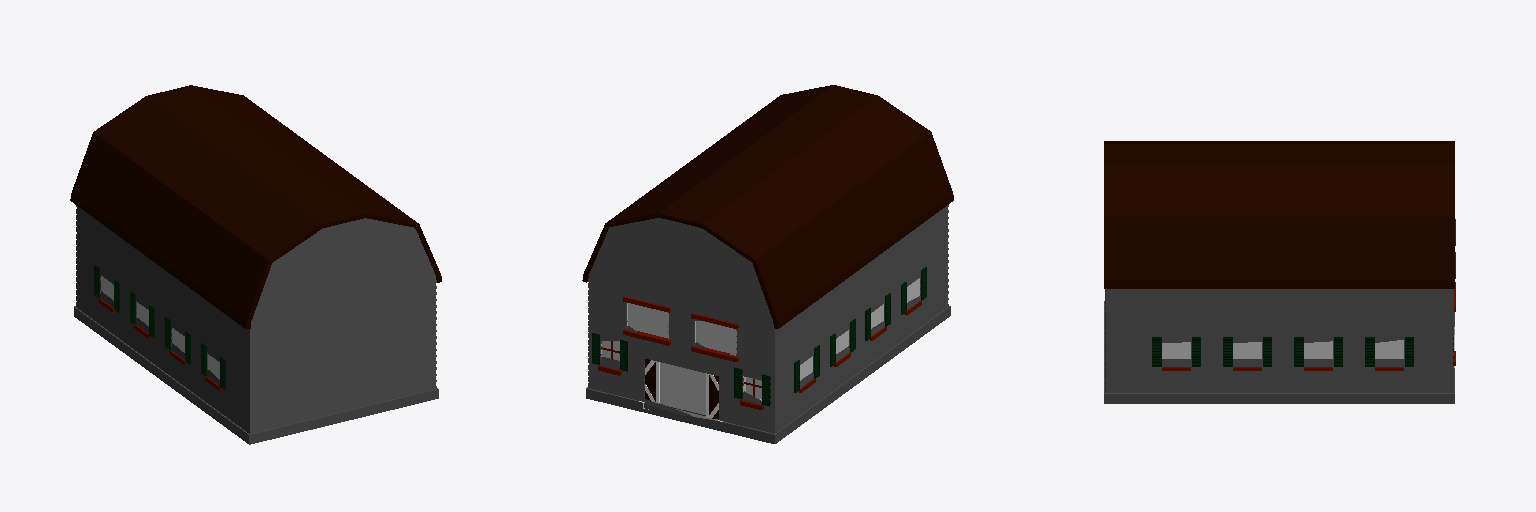
File: barn.obj
3 renders of one model, left to right at view 1: azimuth 30°, elevation 25°; view 2: azimuth 150°, elevation 25°; view 3: azimuth 270°, elevation 25°, orthographic.
Visible parts, largest first — view 1: Cube.017, Cube.012, Cube.015, Cube.011, Cube.013; view 2: Cube.012, Cube.017, Cube.013, Cube.015, Cube.011, Cube.002, Cube.010, Cube.004, Cube.007; view 3: Cube.012, Cube.017, Cube.015, Cube.011, Cube.013.
Boxes of the visible parts, <box> form: Cube.017: <box>76,205,436,433</box>; Cube.012: <box>70,85,441,328</box>; Cube.015: <box>74,306,438,444</box>; Cube.011: <box>94,265,225,390</box>; Cube.013: <box>101,276,219,379</box>; Cube.012: <box>582,85,953,328</box>; Cube.017: <box>588,205,948,433</box>; Cube.013: <box>602,278,919,416</box>; Cube.015: <box>586,306,950,443</box>; Cube.011: <box>794,267,926,392</box>; Cube.002: <box>645,359,718,419</box>; Cube.010: <box>592,333,770,406</box>; Cube.004: <box>623,329,738,361</box>; Cube.007: <box>623,296,738,328</box>; Cube.012: <box>1104,141,1454,288</box>; Cube.017: <box>1105,289,1453,392</box>; Cube.015: <box>1104,301,1454,403</box>; Cube.011: <box>1152,337,1413,366</box>; Cube.013: <box>1162,340,1403,358</box>.
Size of the model in its own units: 2.47 by 2.44 by 3.84.